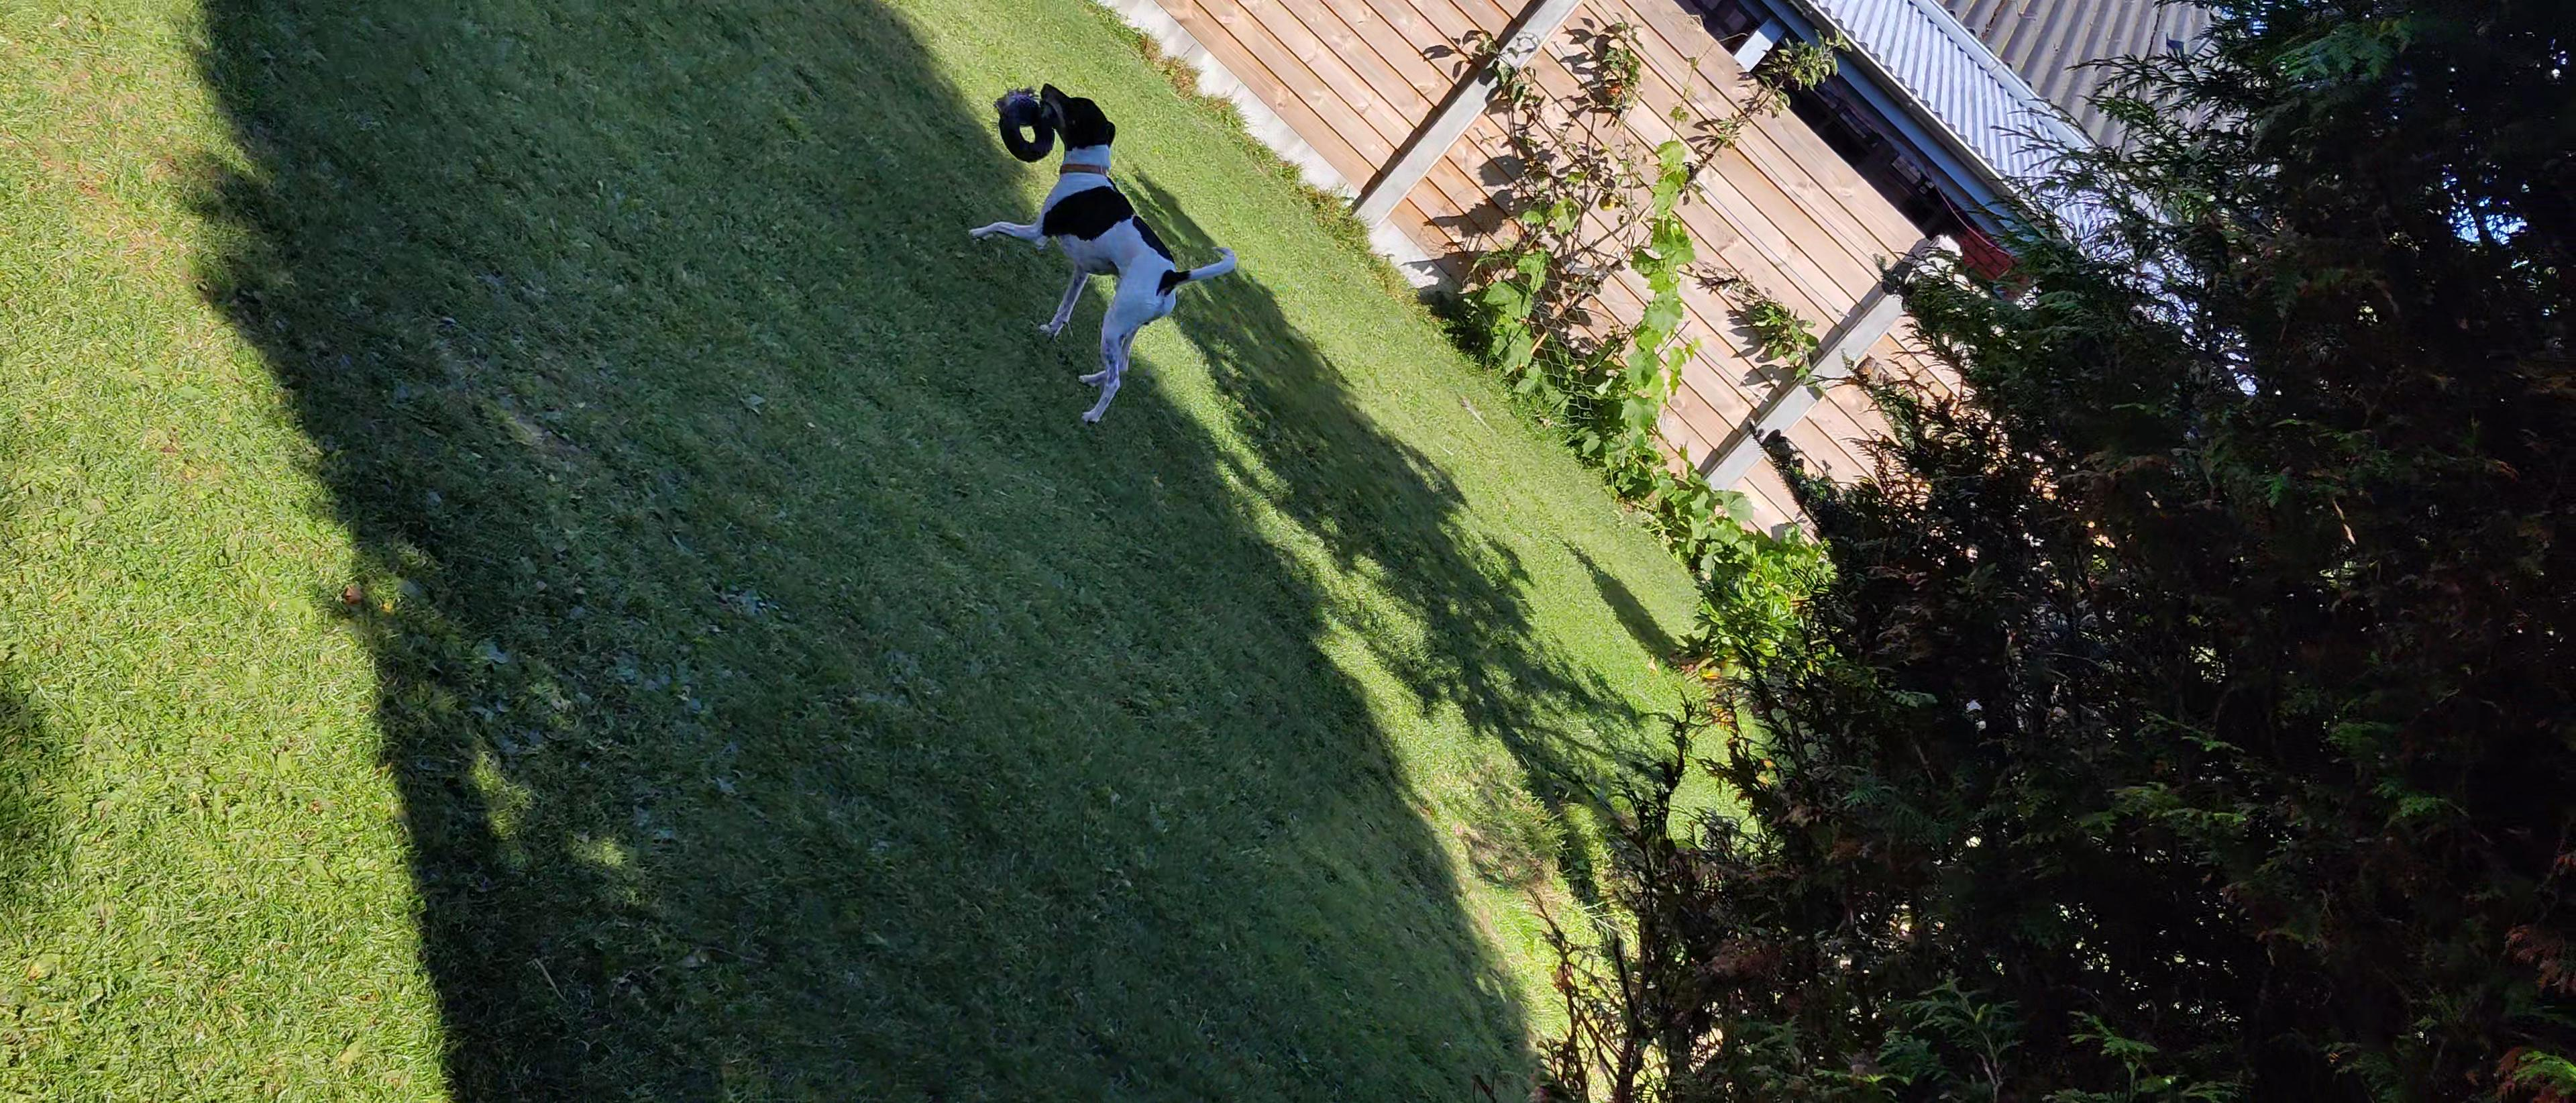Dog: (951, 69, 1253, 429)
